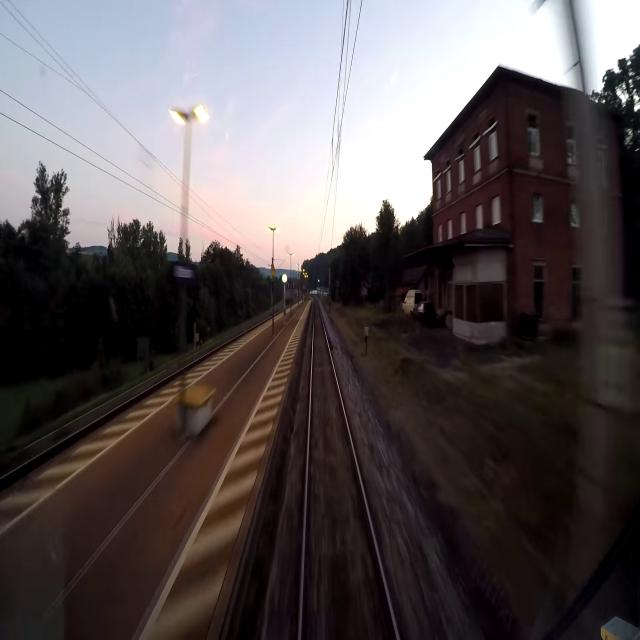rail-track: (302, 299, 396, 639)
